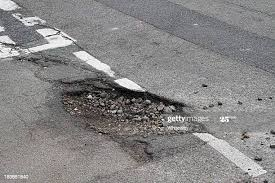pothole: (61, 77, 171, 144)
